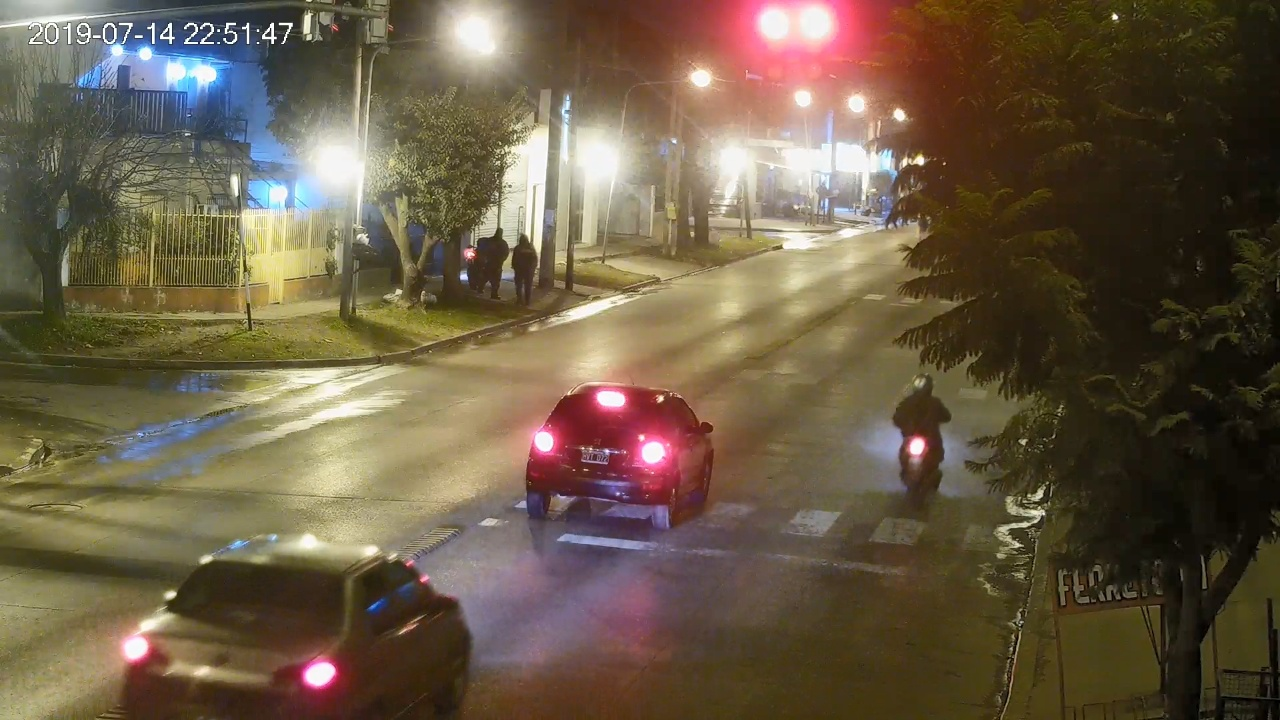car: (125, 531, 474, 720), (525, 381, 714, 530)
motorcycle: (893, 394, 951, 508)
traffic light: (765, 9, 788, 81), (804, 10, 825, 82)
